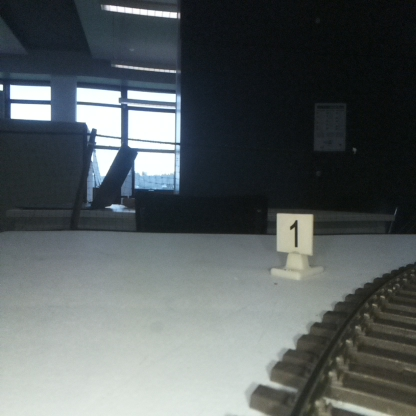white-stop-1: (276, 214, 313, 275)
